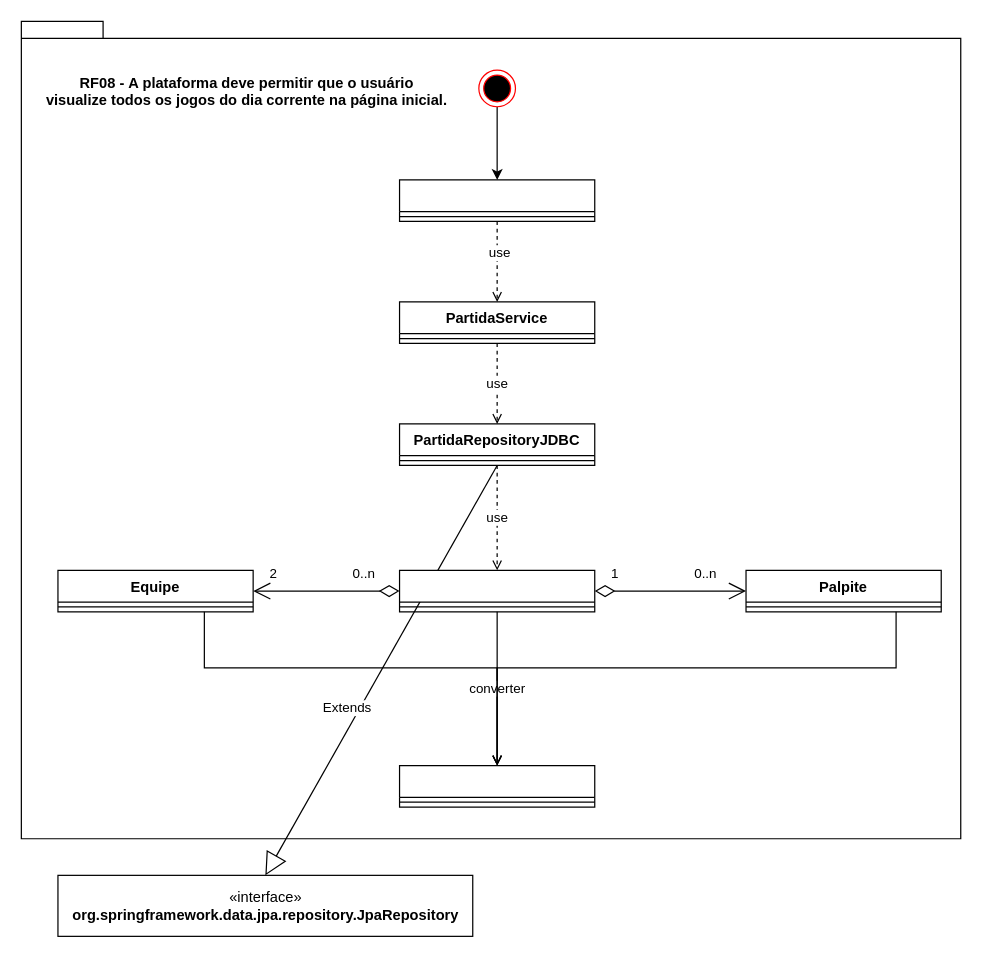
Image size: 982x958. Some labels were removed from this diagram. Each missing label, with the box of its shape:
Partida: (398, 569, 595, 612)
PartidaController: (398, 179, 595, 221)
PartidaDTO: (398, 764, 595, 807)
